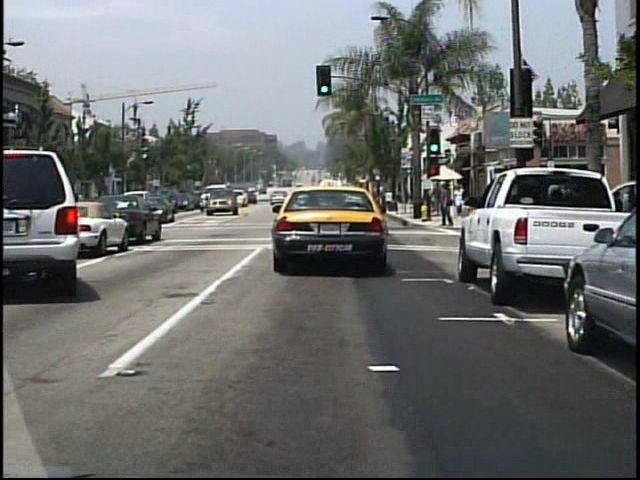person: (439, 182, 452, 228), (431, 182, 443, 218), (453, 181, 465, 214)
